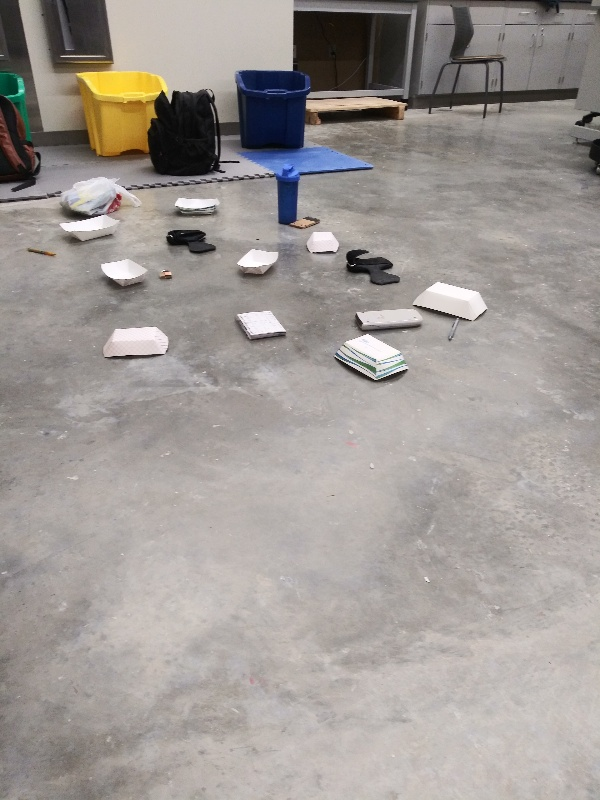plate: (332, 329, 411, 382), (405, 278, 490, 327), (97, 321, 173, 362), (56, 211, 122, 247), (96, 255, 148, 288), (233, 246, 280, 278), (170, 192, 223, 220), (302, 228, 340, 256)
